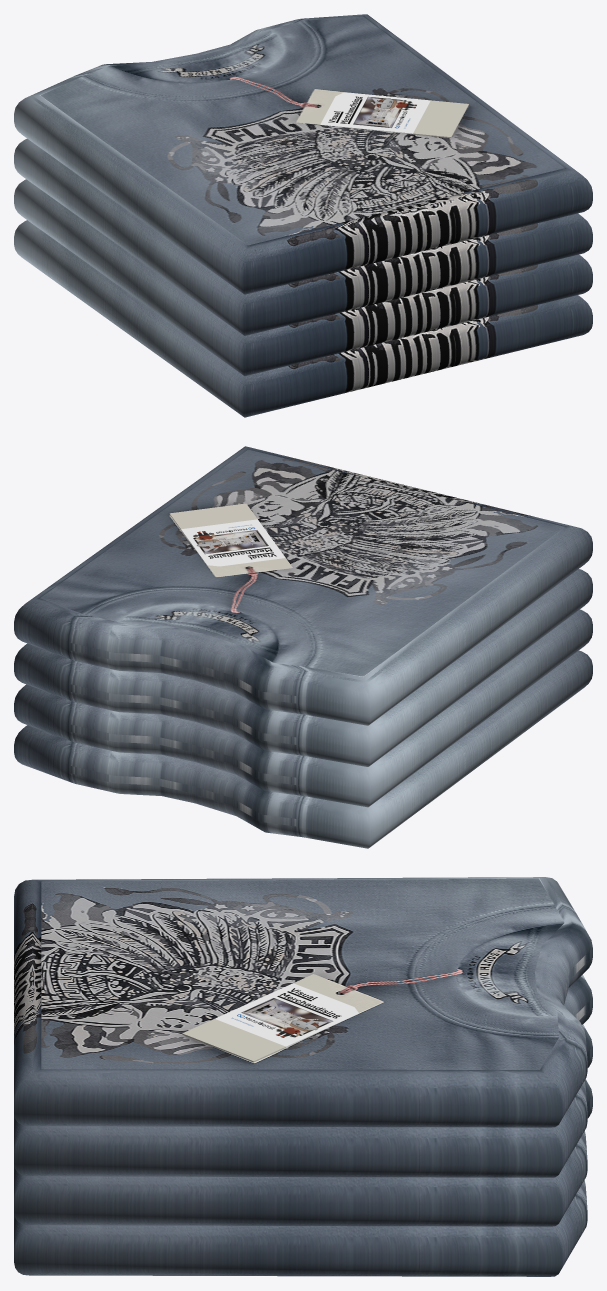
File: jersey low.glb
3 views of the same model, one above another, from view 1: azimuth 30°, elevation 25°; view 2: azimuth 150°, elevation 25°; view 3: azimuth 270°, elevation 25° (orthographic). The views are drawn at different scales.
Visible parts, largest first — view 1: Plane.003, Plane.002, Plane, Plane.001, Plane.004; view 2: Plane.003, Plane.002, Plane, Plane.001, Plane.004; view 3: Plane.003, Plane.002, Plane, Plane.001, Plane.004.
Boxes of the visible parts, left/top/right/bottom form: Plane.003: left=14, top=14, right=592, bottom=294; Plane.002: left=14, top=138, right=592, bottom=335; Plane: left=14, top=220, right=592, bottom=417; Plane.001: left=14, top=179, right=592, bottom=376; Plane.004: left=296, top=92, right=468, bottom=137; Plane.003: left=14, top=446, right=592, bottom=725; Plane.002: left=14, top=569, right=592, bottom=766; Plane: left=14, top=650, right=592, bottom=848; Plane.001: left=14, top=609, right=592, bottom=807; Plane.004: left=169, top=503, right=292, bottom=569; Plane.003: left=14, top=877, right=592, bottom=1127; Plane.002: left=14, top=974, right=592, bottom=1177; Plane: left=14, top=1079, right=592, bottom=1276; Plane.001: left=14, top=1024, right=592, bottom=1226; Plane.004: left=182, top=974, right=358, bottom=1062.
Size of the model in its own units: 1.7 by 0.7761 by 1.97.
Materials: 2 (2 with a texture image).
